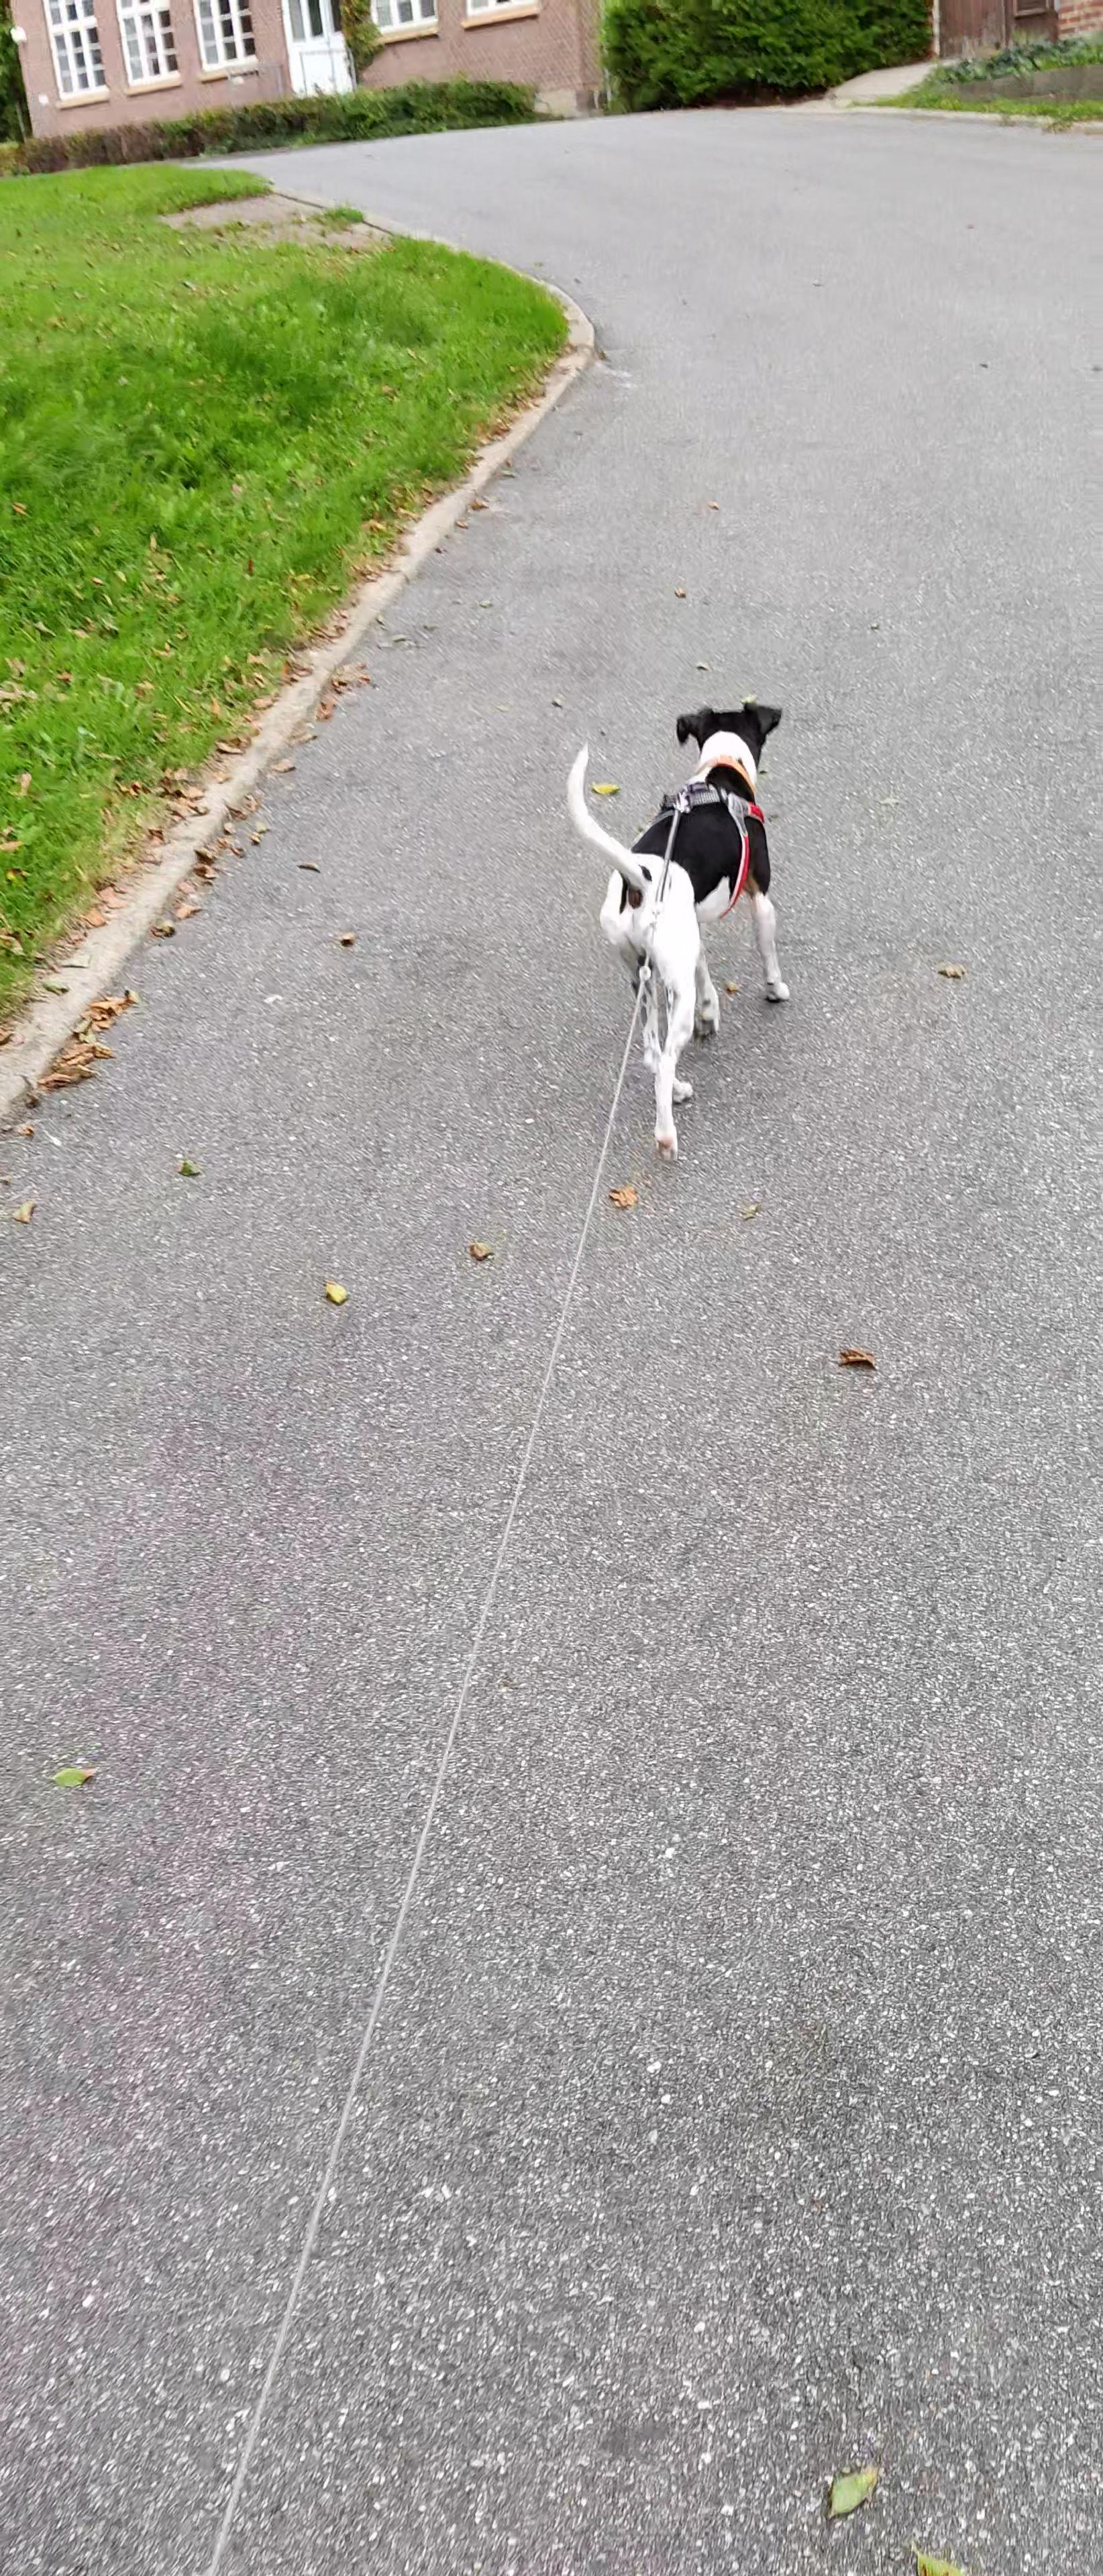Dog: (559, 698, 789, 1170)
